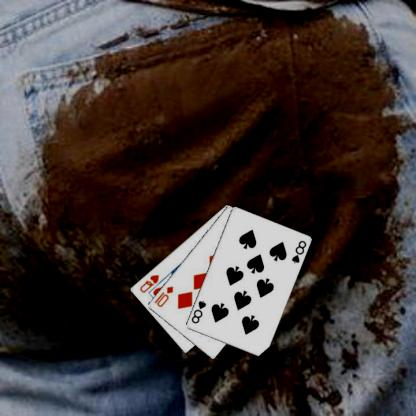10D: (153, 284, 176, 308)
8S: (190, 298, 209, 325), (291, 238, 309, 265)
QH: (138, 272, 162, 294)
